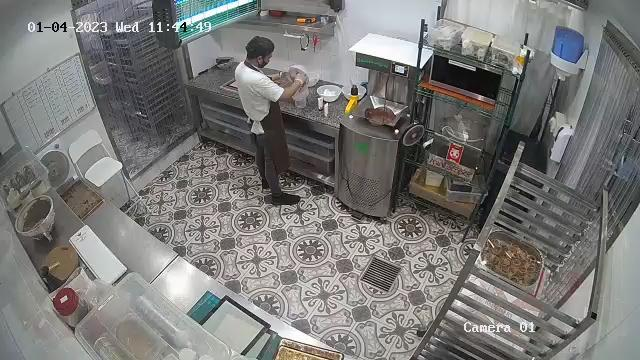apron: (245, 62, 287, 140)
